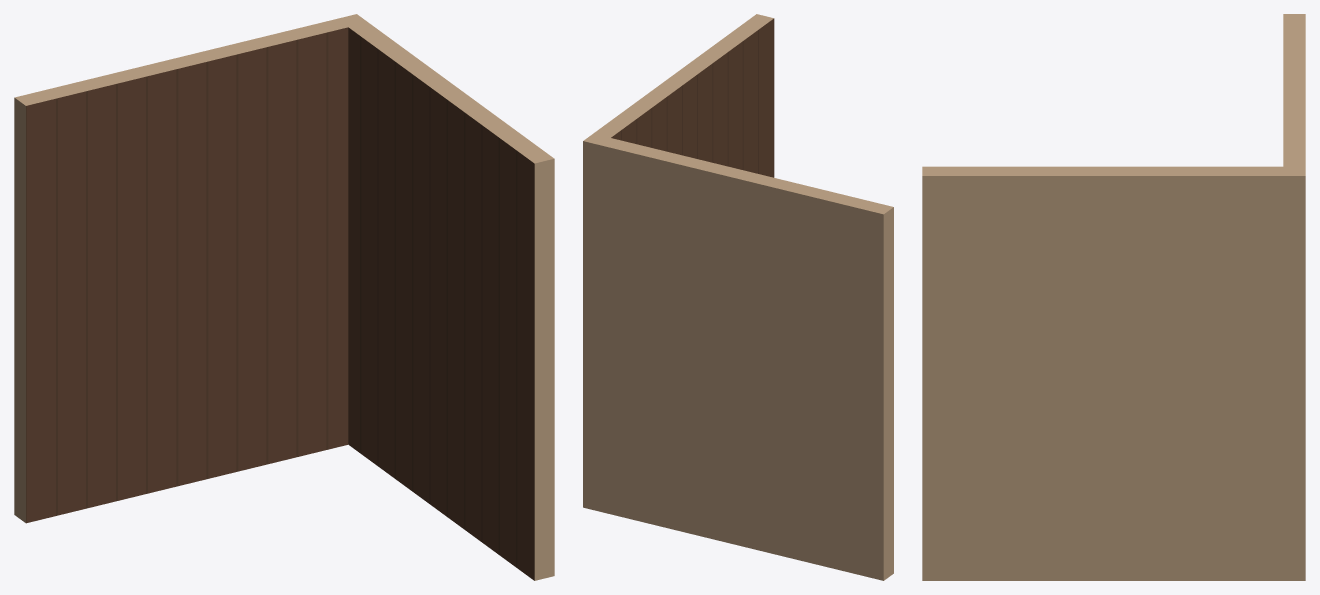
Rendered from Wall3_C9_06.fbx.
3 views of the same model, side by side, from view 1: azimuth 30°, elevation 25°; view 2: azimuth 150°, elevation 25°; view 3: azimuth 270°, elevation 25° (orthographic). The views are drawn at different scales.
Parts seen in each view (by area): view 1: Wall3_C9_06; view 2: Wall3_C9_06; view 3: Wall3_C9_06.
Part boxes in pixels (box(x1,y1,x2,y2)): Wall3_C9_06: box(14, 14, 554, 580); Wall3_C9_06: box(583, 14, 893, 580); Wall3_C9_06: box(922, 14, 1305, 580).
Size of the model in its own units: 258 by 300 by 258.
